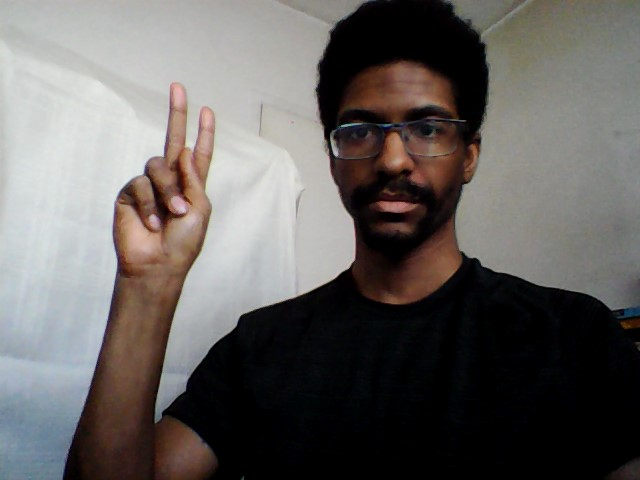k: (109, 77, 221, 294)
